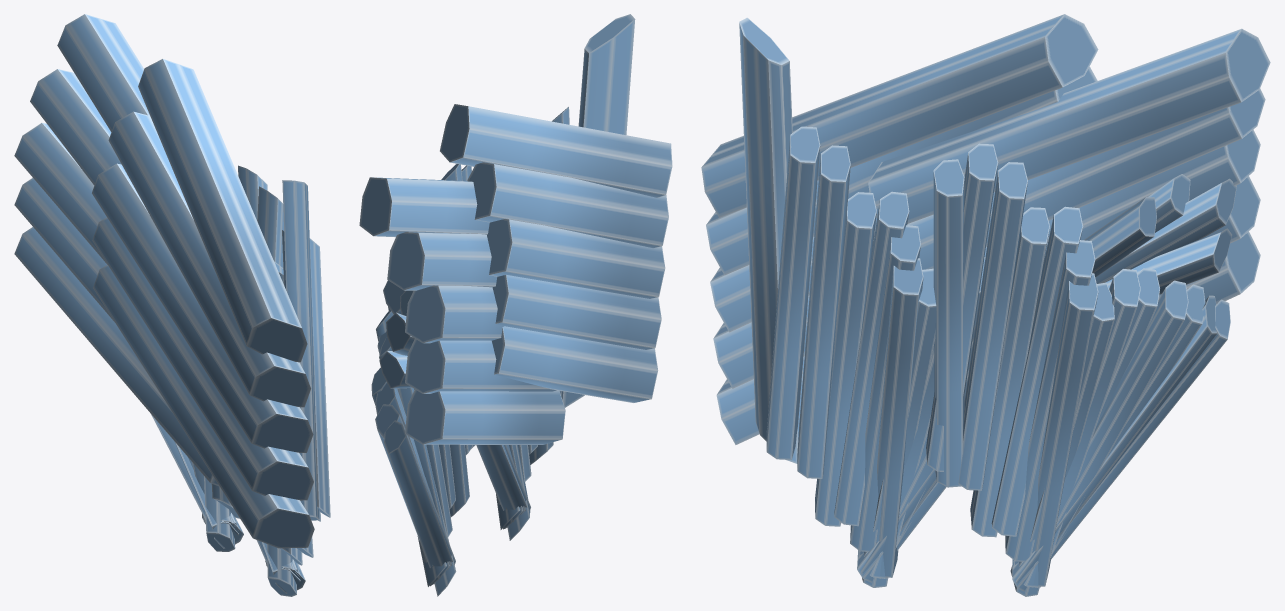
The model's file is wall_crystal_pipes_04.fbx.
3 renders of one model, left to right at view 1: azimuth 30°, elevation 25°; view 2: azimuth 150°, elevation 25°; view 3: azimuth 270°, elevation 25°, orthographic. The views are drawn at different scales.
Visible parts, largest first — view 1: wall_crystal_pipes_04; view 2: wall_crystal_pipes_04; view 3: wall_crystal_pipes_04.
Part boxes in pixels (x1,y1,x2,y2): wall_crystal_pipes_04: (14, 14, 330, 596); wall_crystal_pipes_04: (359, 14, 672, 596); wall_crystal_pipes_04: (701, 14, 1270, 596).
Bounding box in the file's own units: 0.5311 × 1.79 × 1.65.
1 material, 1 textured.
